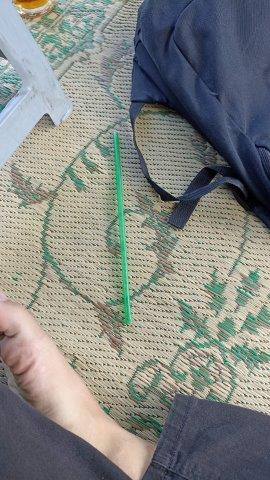sedotan: (113, 132, 132, 323)
